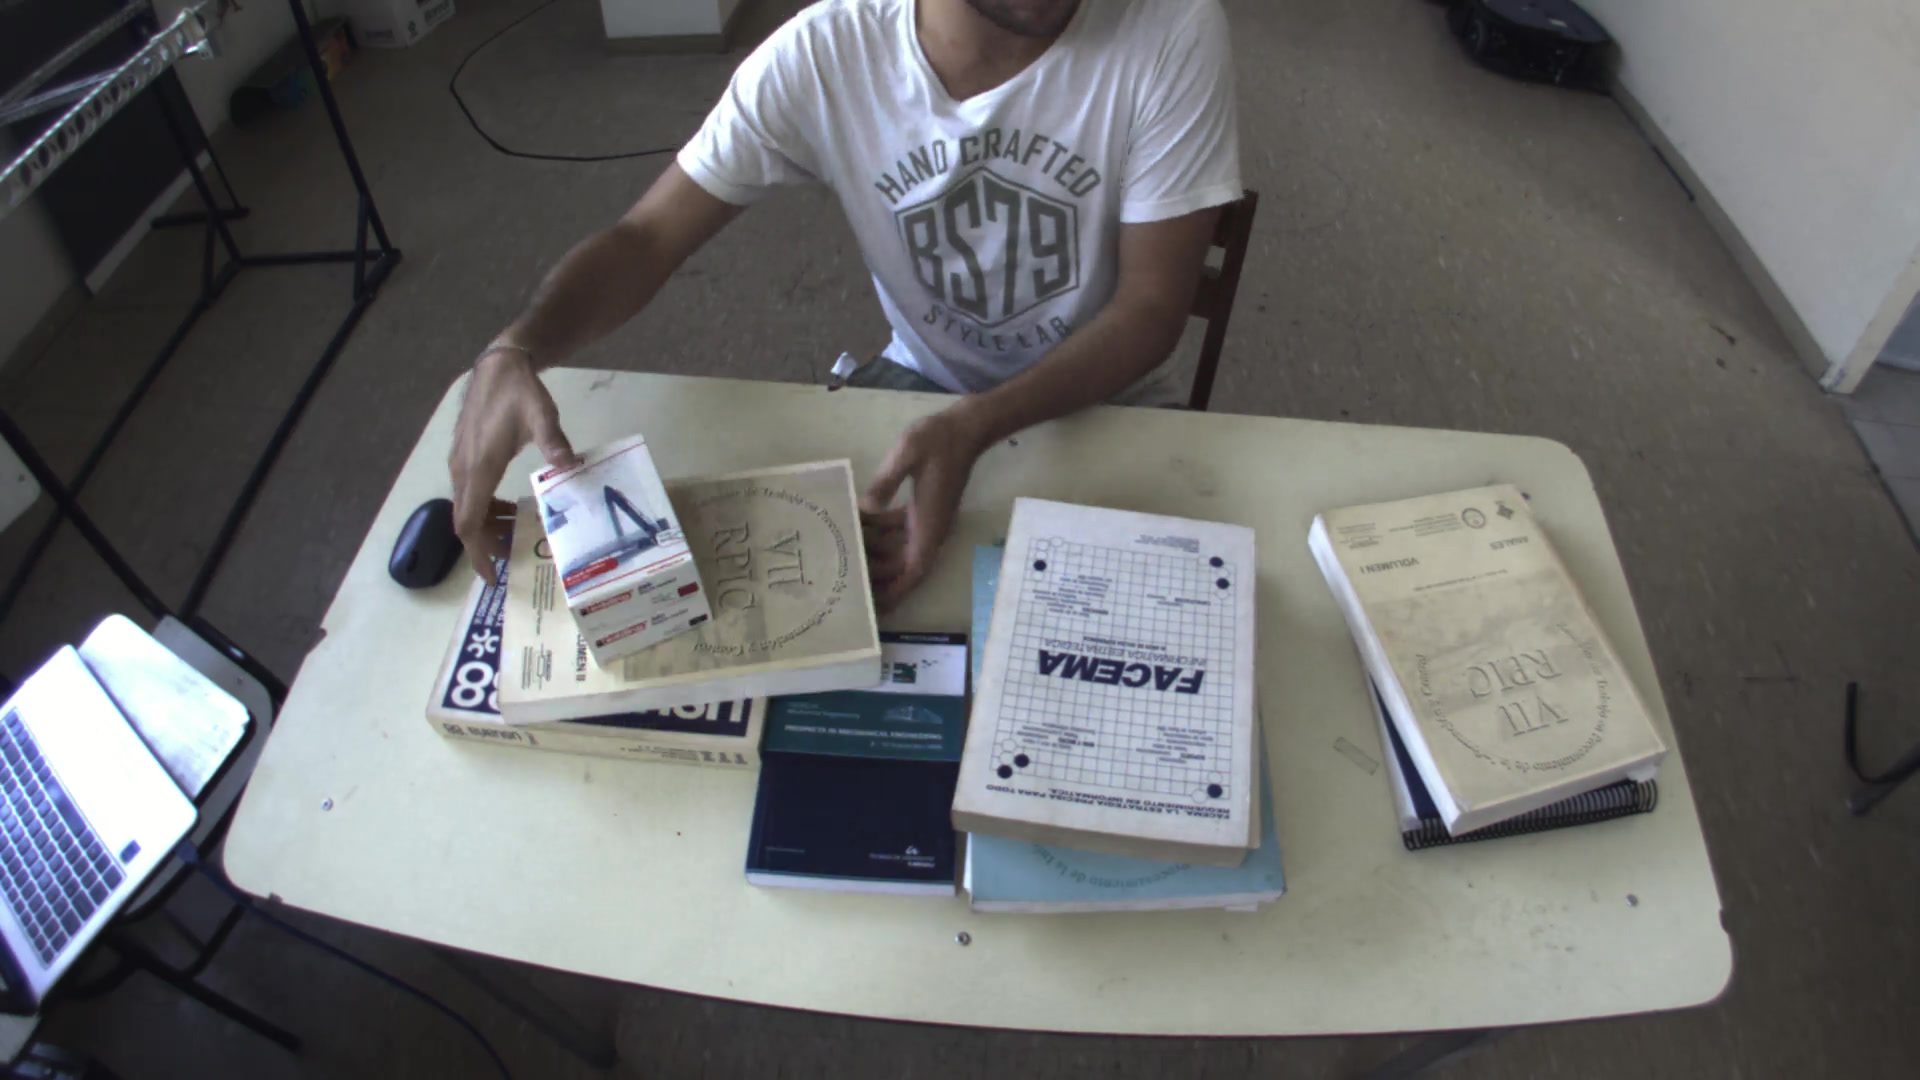hand: (849, 388, 986, 607), (442, 339, 579, 555)
